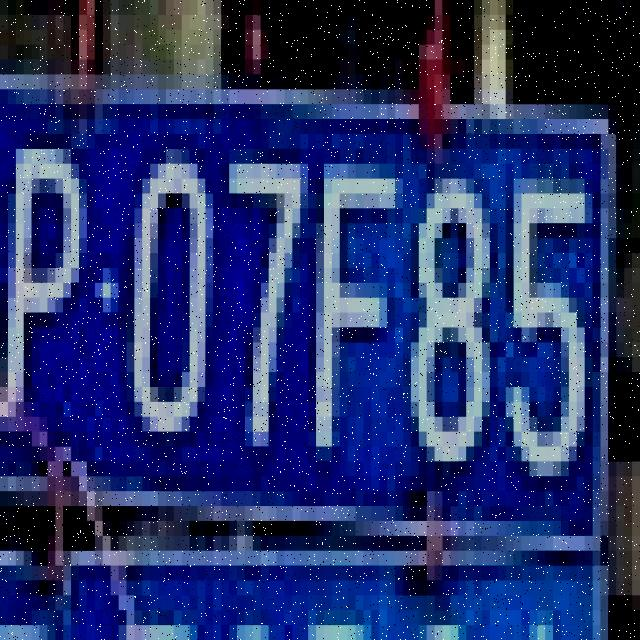licenseplate: (0, 46, 621, 585)
